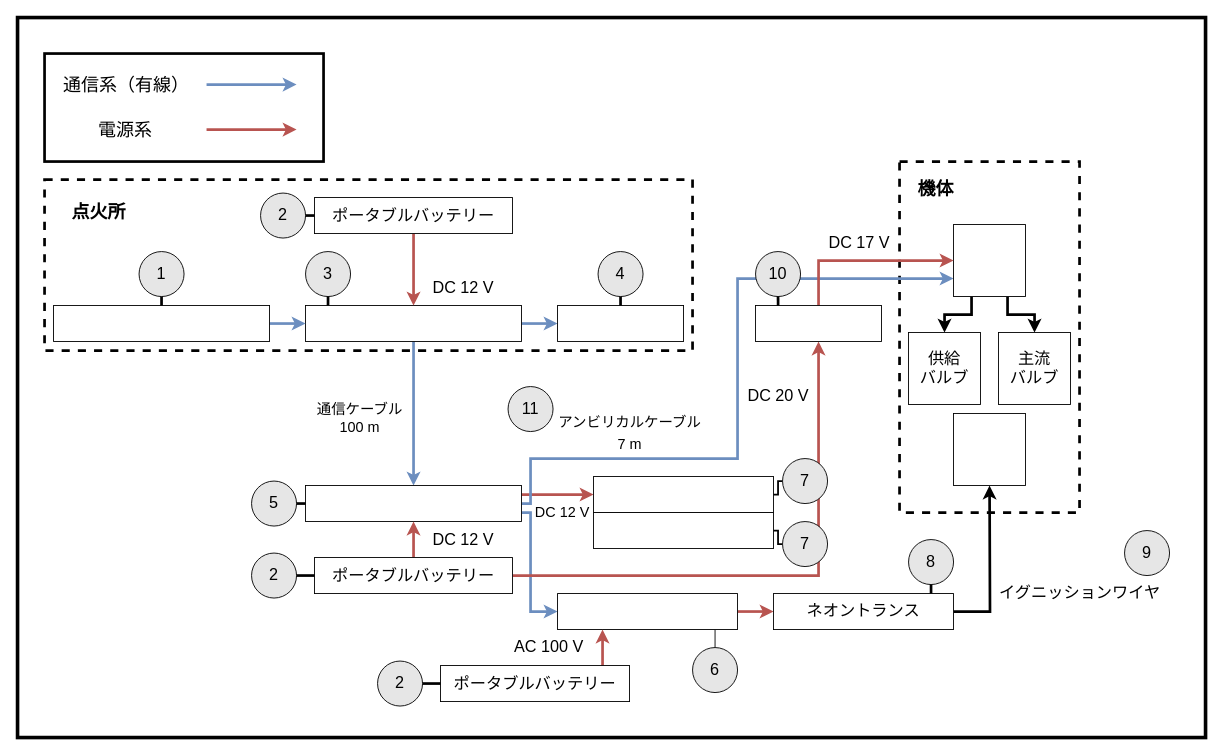
Some shapes in this 1222 by 754 pixel diagram are drawn without their labels. Each missing label, with the centre of its shape:
"こもあユニット" goes at [647,611].
"サテライトコントローラー" goes at [413,503].
"スピーカー" goes at [620,323].
"モータ" goes at [989,449].
"ランチコントローラー" goes at [413,323].
"充填確認スイッチ（x3）" goes at [161,323].
"安定化電源" goes at [818,323].
"搭載計器" goes at [989,260].
"空圧弁ユニット" goes at [683,530].
"電磁弁ユニット" goes at [683,494].
